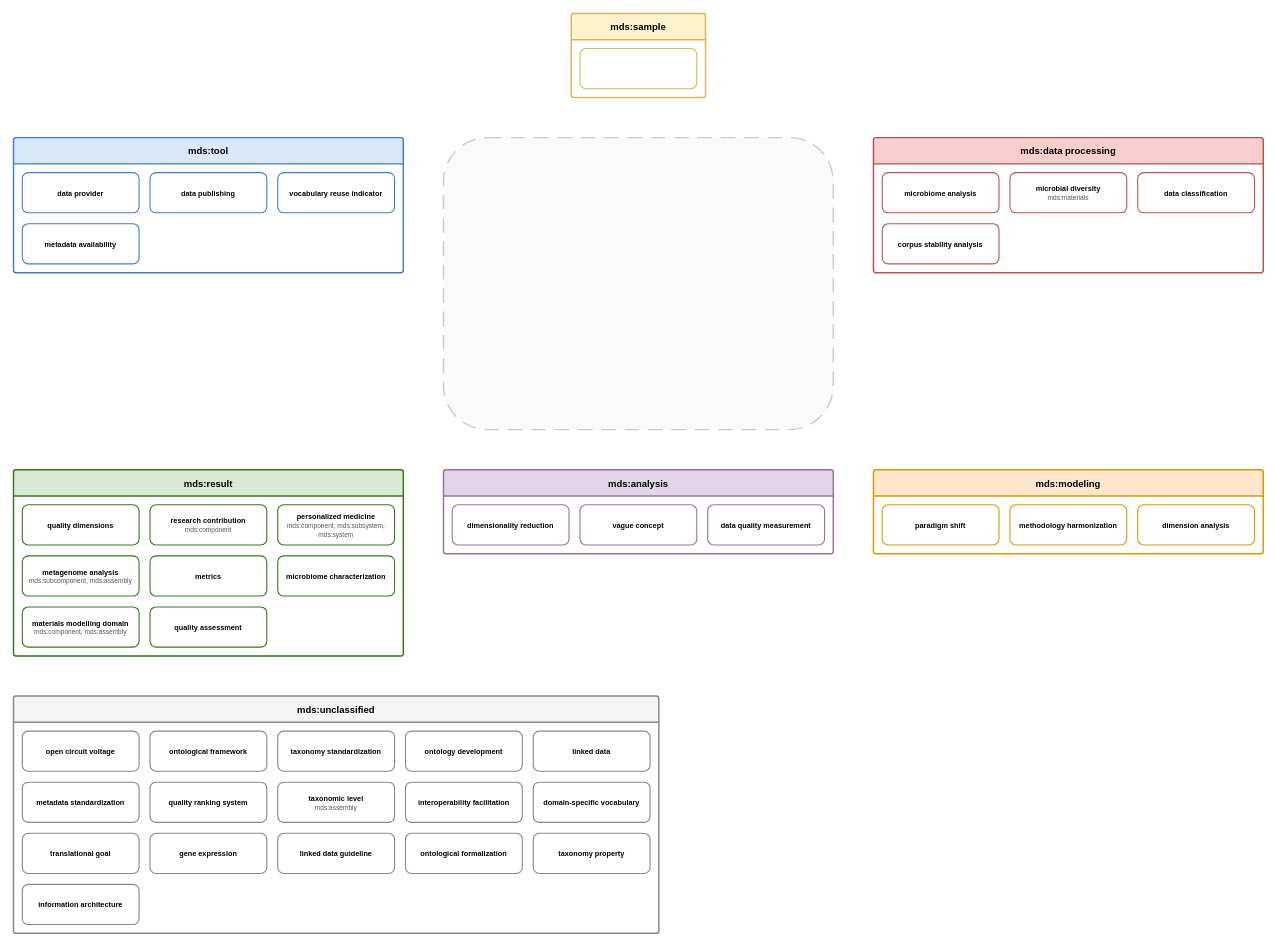
This 1276x946 diagram has some shape labels left out. The centre of each missing label's shape, as x and y in pixels:
materials characterisation mds:subcomponent: [638,68]
← Drag concepts here →: [638,283]
